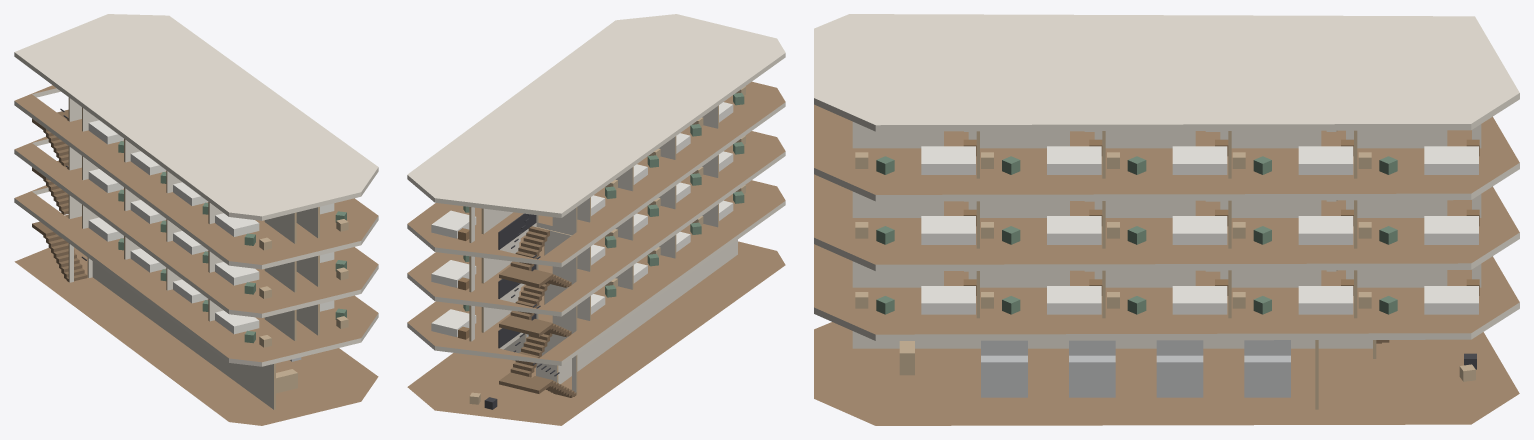
Rendered from interior.glb.
3 renders of one model, left to right at view 1: azimuth 30°, elevation 25°; view 2: azimuth 150°, elevation 25°; view 3: azimuth 270°, elevation 25°, orthographic. The views are drawn at different scales.
Parts seen in each view (by area): view 1: slabs, partitions, coarse-s1, coarse-s2, coarse-s3, stair, coarse-s0; view 2: slabs, partitions, stair, coarse-s1, coarse-s3, coarse-s2; view 3: slabs, partitions, coarse-s0, coarse-s2, coarse-s3, coarse-s1.
Boxes of the visible parts, box(x1,y1,x2,y2) form: slabs: box(14, 14, 378, 425); partitions: box(68, 97, 319, 409); coarse-s1: box(88, 217, 348, 347); coarse-s2: box(88, 169, 348, 298); coarse-s3: box(88, 120, 348, 250); stair: box(32, 108, 87, 281); coarse-s0: box(276, 357, 301, 393); slabs: box(407, 14, 785, 425); partitions: box(469, 105, 737, 395); stair: box(498, 213, 576, 397); coarse-s1: box(431, 185, 745, 339); coarse-s3: box(431, 86, 745, 240); coarse-s2: box(431, 135, 745, 290); slabs: box(814, 14, 1519, 425); partitions: box(852, 122, 1481, 409); coarse-s0: box(899, 340, 1476, 397); coarse-s2: box(855, 209, 1479, 244); coarse-s3: box(855, 139, 1479, 174); coarse-s1: box(855, 279, 1479, 314).
Bounding box in the file's own units: 9.6 × 12.13 × 25.75.
